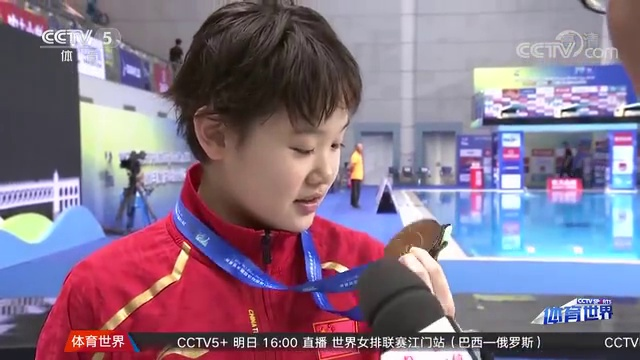face: (236, 79, 348, 227)
